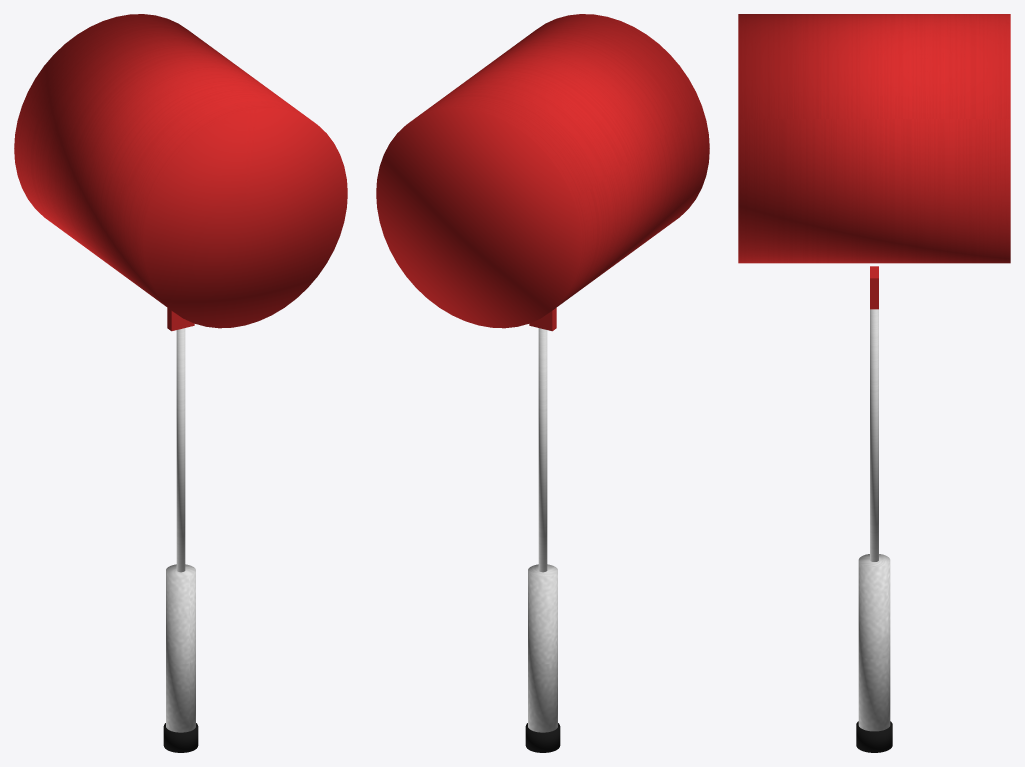
The model's file is ai_parts_12cecc.glb.
3 renders of one model, left to right at view 1: azimuth 30°, elevation 25°; view 2: azimuth 150°, elevation 25°; view 3: azimuth 270°, elevation 25°, orthographic. The views are drawn at different scales.
Visible parts, largest first — view 1: 04_head_frame, 00_handle, 02_shaft, 01_handle_cap; view 2: 04_head_frame, 00_handle, 02_shaft, 01_handle_cap; view 3: 04_head_frame, 00_handle, 02_shaft, 01_handle_cap.
Part boxes in pixels (box(x1,y1,x2,y2)): 04_head_frame: box(14, 14, 347, 328); 00_handle: box(166, 564, 195, 732); 02_shaft: box(176, 328, 185, 572); 01_handle_cap: box(163, 723, 198, 752); 04_head_frame: box(376, 14, 709, 328); 00_handle: box(528, 564, 557, 732); 02_shaft: box(538, 328, 547, 572); 01_handle_cap: box(525, 723, 560, 752); 04_head_frame: box(738, 14, 1010, 263); 00_handle: box(858, 554, 890, 731); 02_shaft: box(870, 309, 878, 561); 01_handle_cap: box(856, 721, 892, 752).
Size of the model in its own units: 22 by 70 by 24.
Materials: 6 (6 with a texture image).
